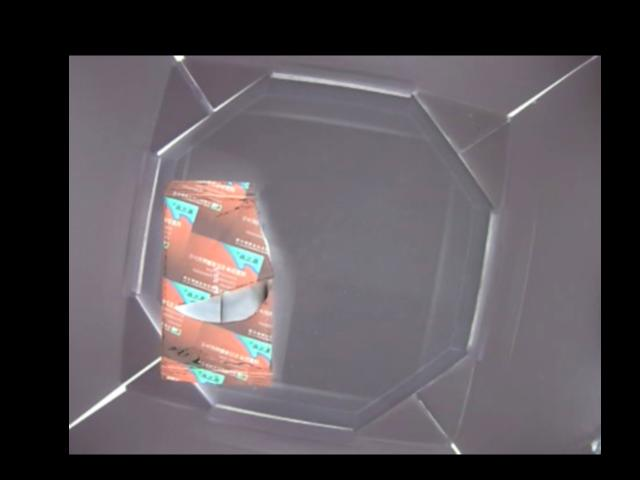Medicine: (162, 180, 273, 388)
